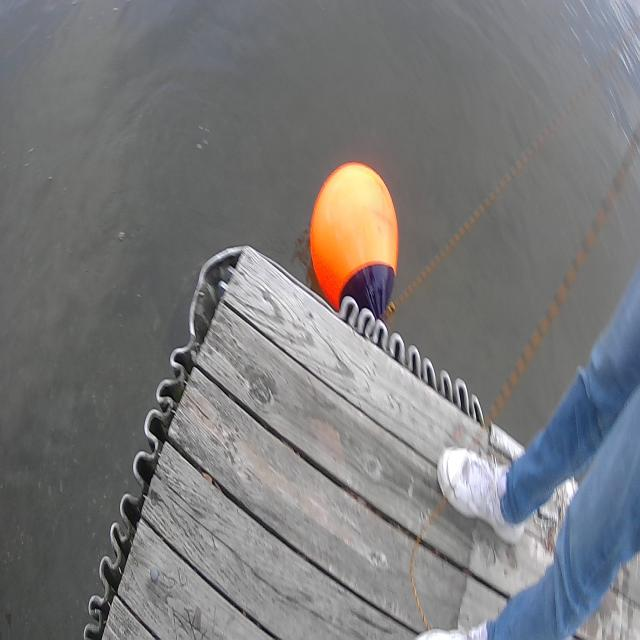Buoy: (300, 140, 410, 340)
